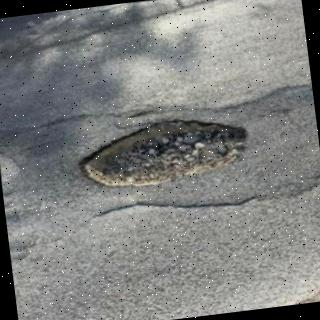pothole: (80, 120, 247, 188)
